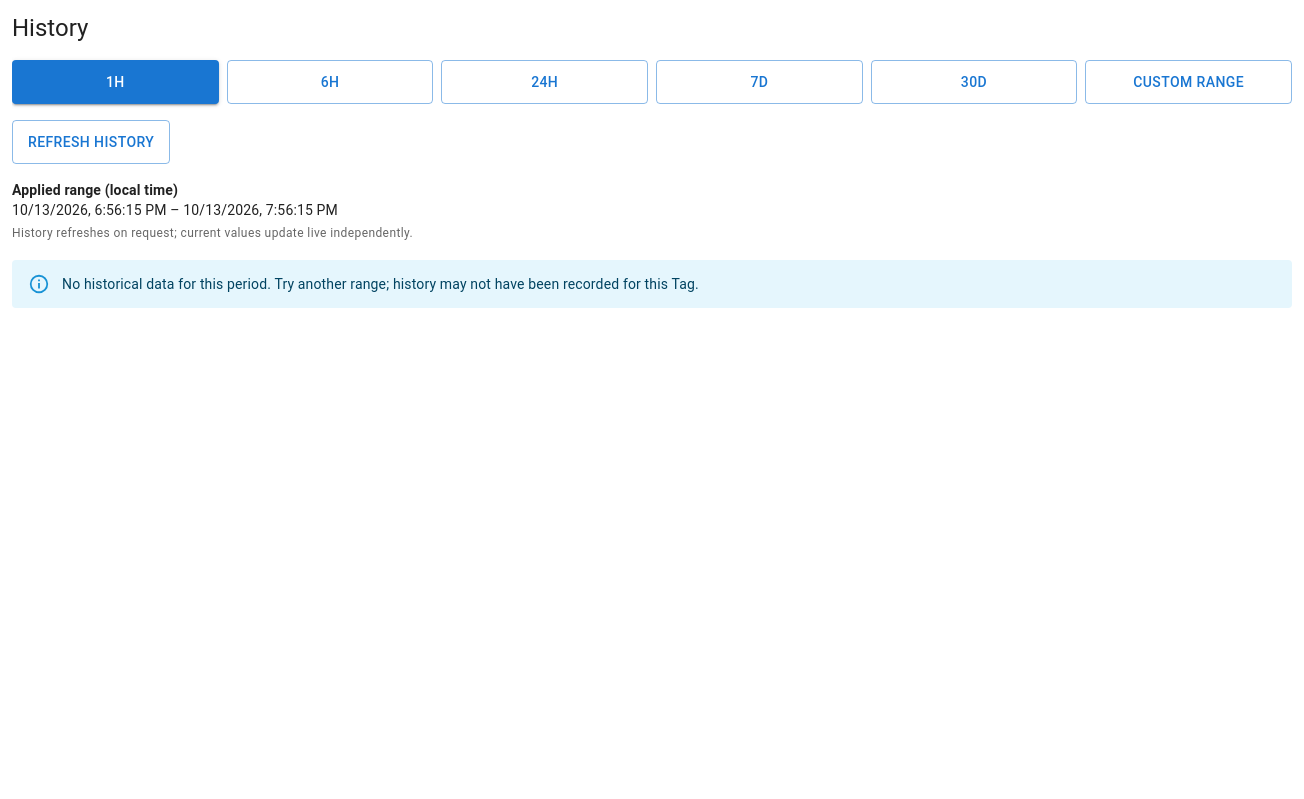
Test: history UI › renders explicit empty and API error states with retry
Expected: the text "No historical data for this period" is shown, [62,276,699,292]
What coordinates should you click on to do the following:
click the button "Refresh history"
I would click on:
 (91, 142)
Its box is [12,120,170,164].
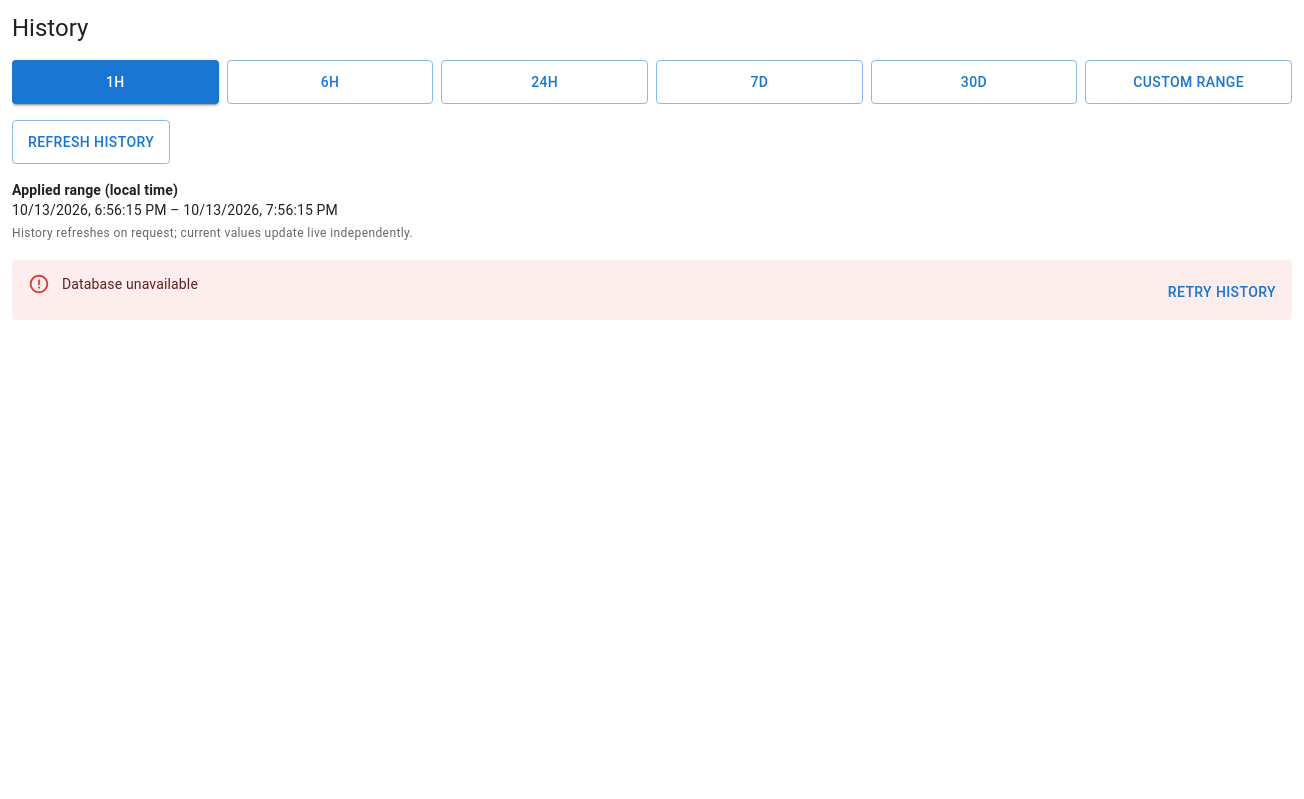
Now the text "Database unavailable" is shown, box [62,276,198,292]
